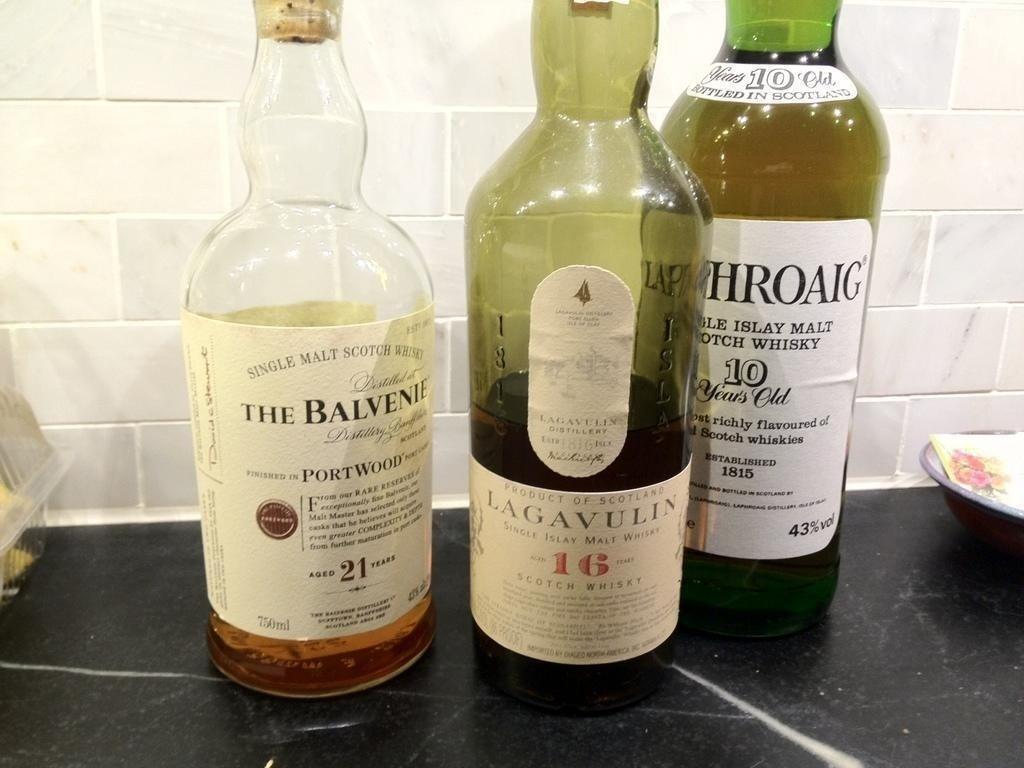bottle-glass: (174, 4, 447, 696), (454, 1, 712, 709), (665, 1, 891, 634)
